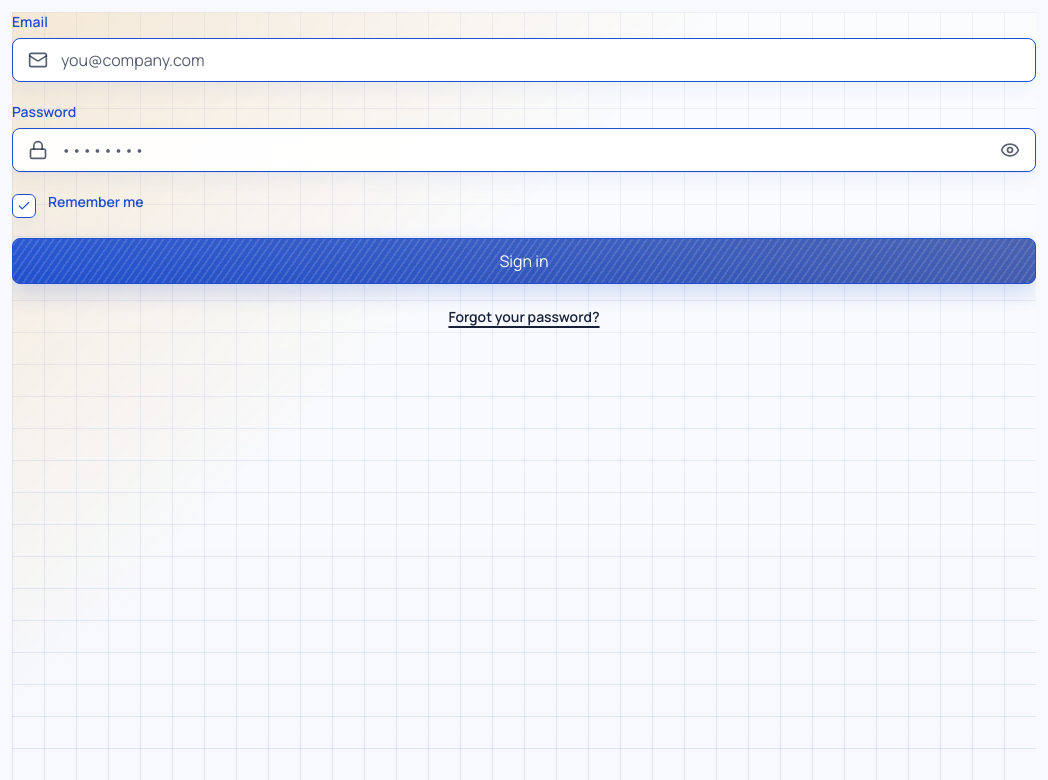
LoginForm › shows an API error without navigating
Type "alex@example.test" into the field labelled "Email" at point(524, 60), box [12,38,1036,82]
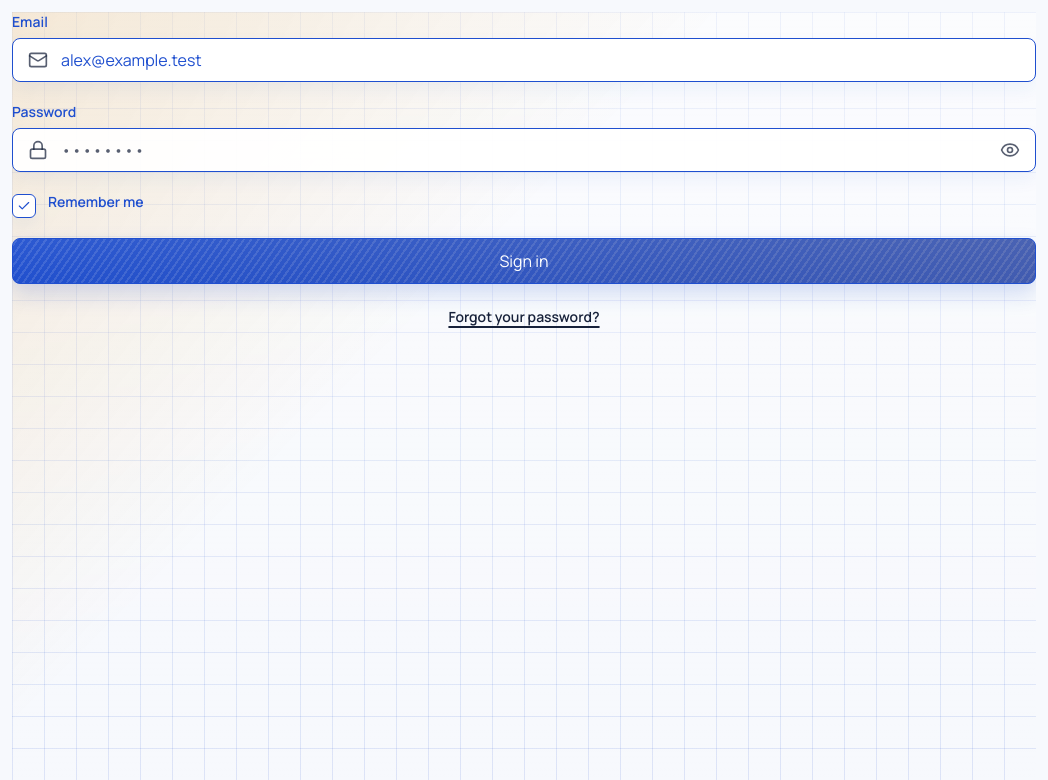
Type "password123" into the password field labelled "Password" at point(524, 150), box [12,128,1036,172]
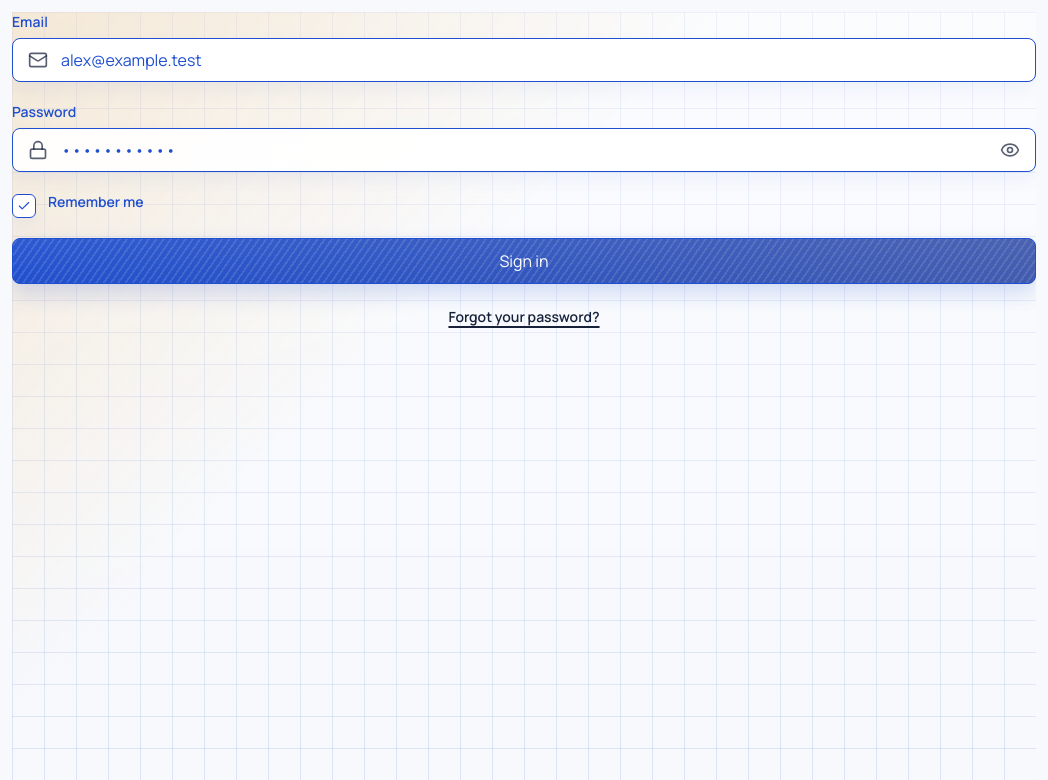
Click the button "Sign in" at point(524, 261), box [12,238,1036,284]
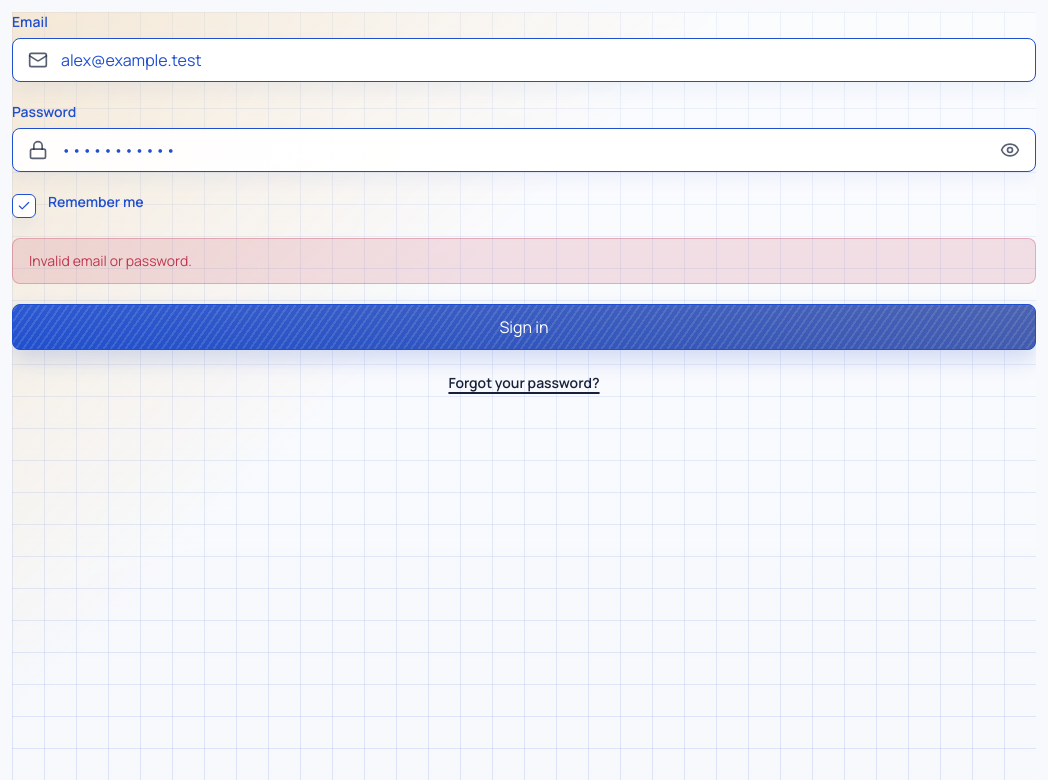
expect the text "Invalid email or password." is shown: met, box [12,238,1036,284]
